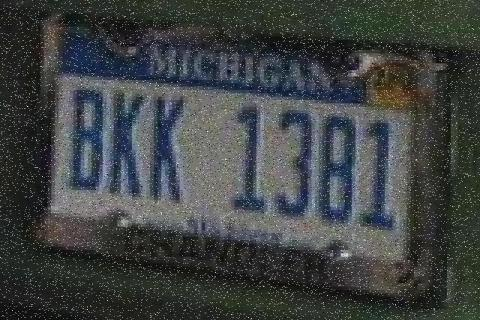LicensePlate: (31, 5, 462, 305)
